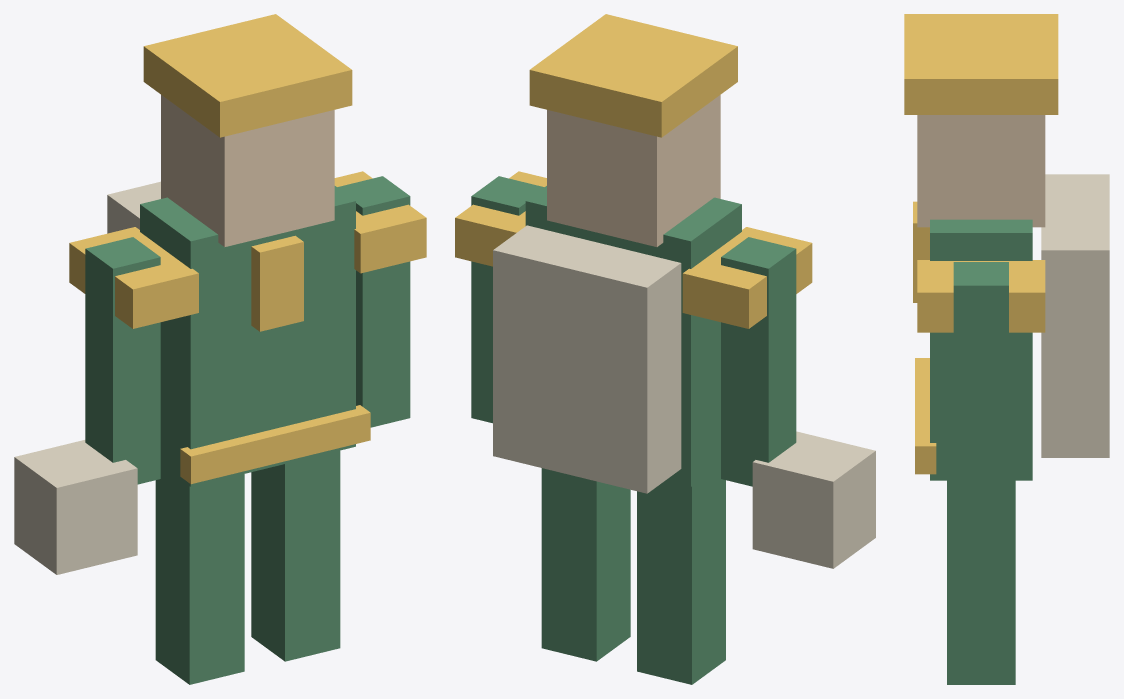
The model's file is 20_mirek_nullborne_ranger_from.glb.
The picture shows the model from 3 angles, left to right: view 1: azimuth 30°, elevation 25°; view 2: azimuth 150°, elevation 25°; view 3: azimuth 270°, elevation 25°; orthographic projection.
Visible parts, largest first — view 1: Mirek Nullborne, Ranger from; view 2: Mirek Nullborne, Ranger from; view 3: Mirek Nullborne, Ranger from.
Boxes of the visible parts, <box> form: Mirek Nullborne, Ranger from: <box>14,14,426,684</box>; Mirek Nullborne, Ranger from: <box>455,14,875,684</box>; Mirek Nullborne, Ranger from: <box>904,14,1109,684</box>.
Size of the model in its own units: 0.9929 by 1.55 by 0.479.
